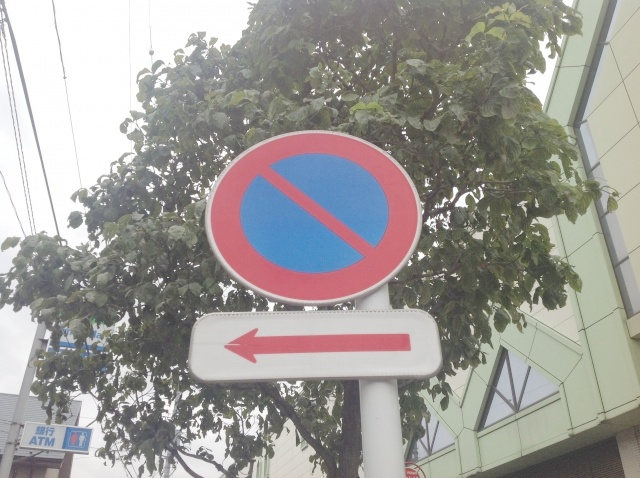Prohibition_sign: (195, 128, 451, 328)
